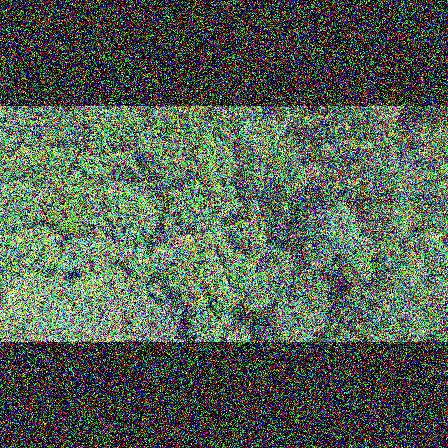Dead: (153, 247, 182, 273)
